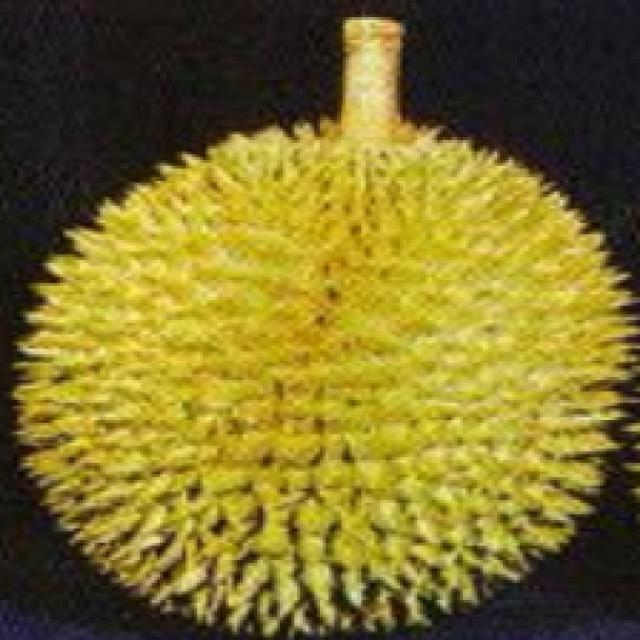d24: (64, 19, 581, 592)
